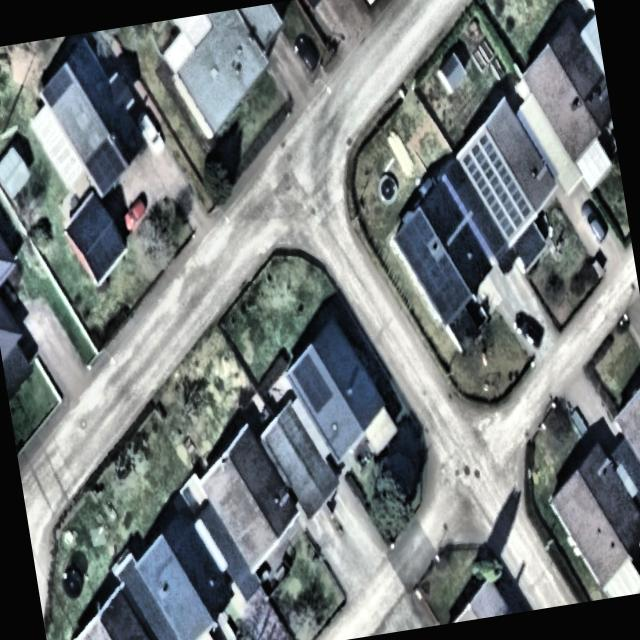roof_pv: (474, 171, 540, 242), (288, 350, 336, 420), (78, 133, 130, 196), (456, 128, 513, 180), (38, 66, 78, 110)
